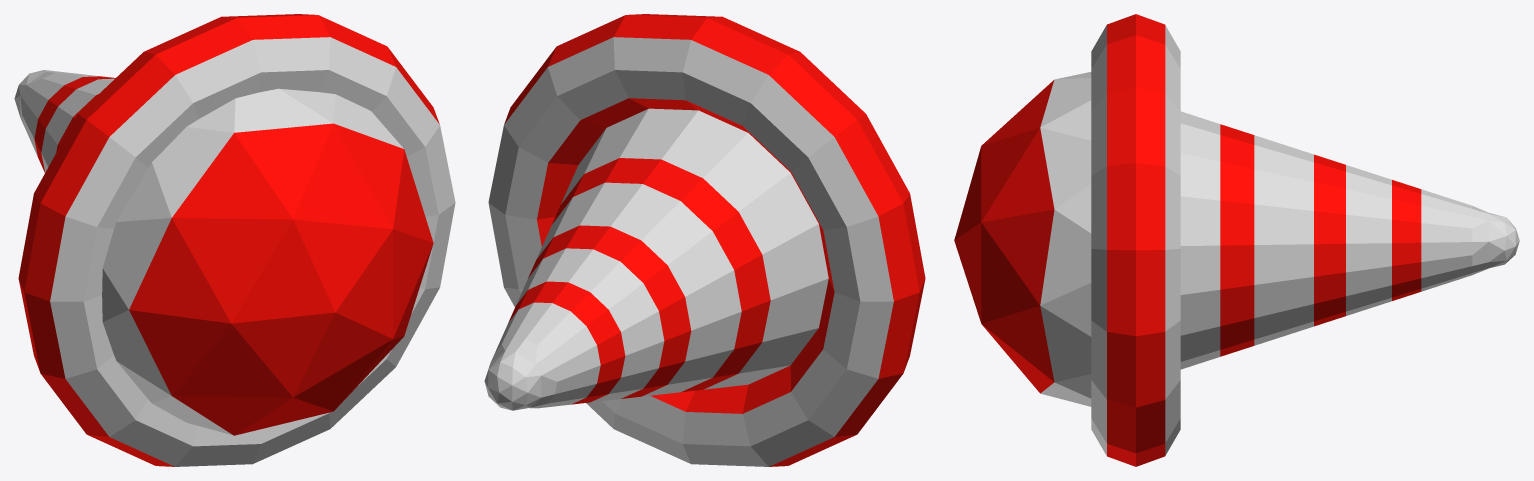
Rendered from Limiter.fbx.
The picture shows the model from 3 angles, left to right: view 1: azimuth 30°, elevation 25°; view 2: azimuth 150°, elevation 25°; view 3: azimuth 270°, elevation 25°; orthographic projection. The views are drawn at different scales.
Parts seen in each view (by area): view 1: Limiter; view 2: Limiter; view 3: Limiter.
Boxes of the visible parts, x1,y1,x2,y2 form: Limiter: [14, 14, 455, 466]; Limiter: [484, 14, 925, 466]; Limiter: [954, 14, 1519, 466].
Size of the model in its own units: 25000 by 25000 by 31183.
